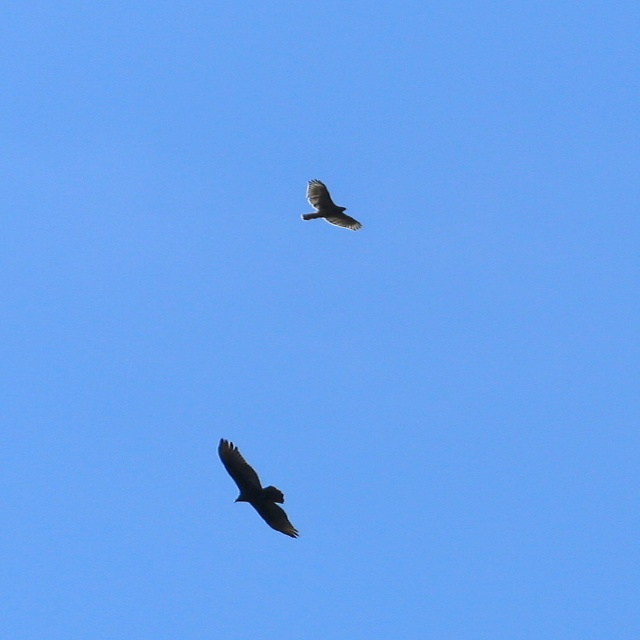Eagle: (211, 440, 310, 549), (299, 175, 371, 237)
